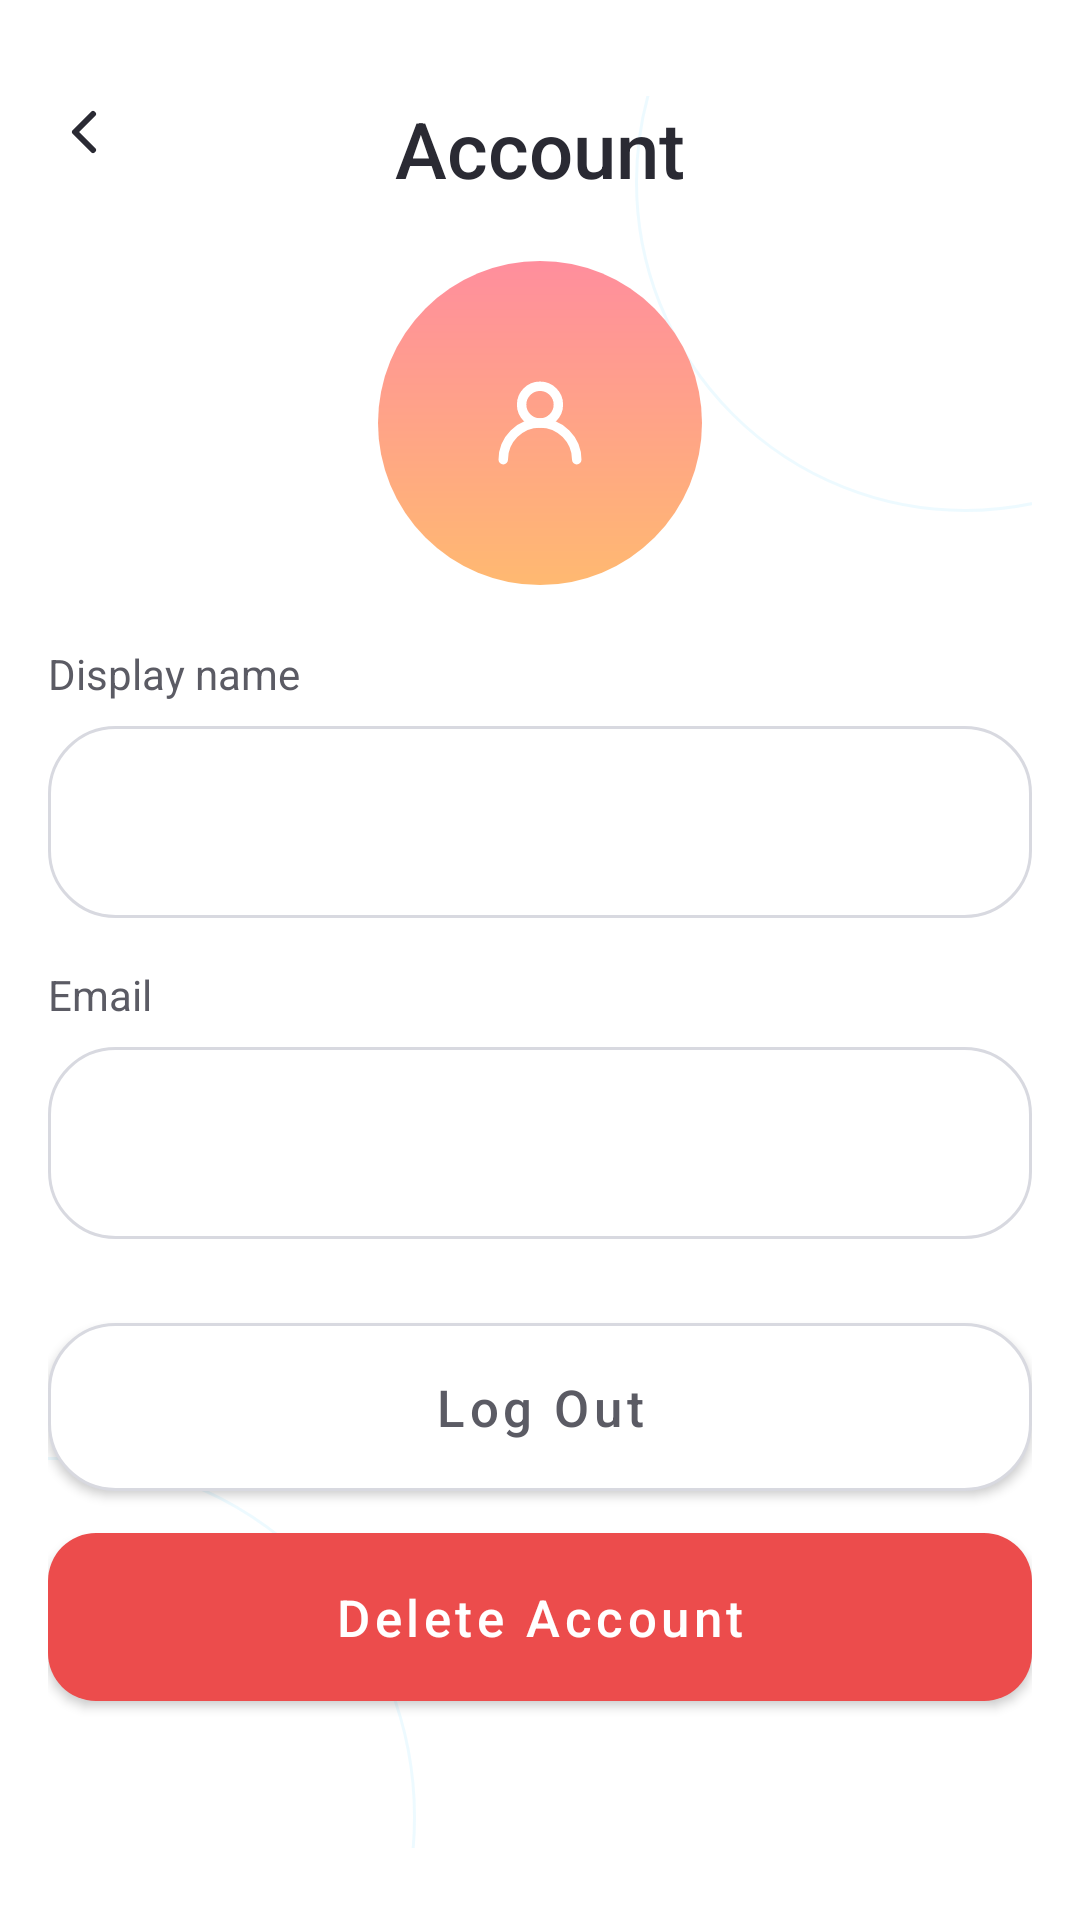

Screen size 1080px×1920px. Icon name, then its box in pixels as {"left": x1, "top": y1, "right": x2, "bottom": y2}:
auth arrow back: {"left": 72, "top": 111, "right": 96, "bottom": 153}
user: {"left": 498, "top": 381, "right": 582, "bottom": 465}
